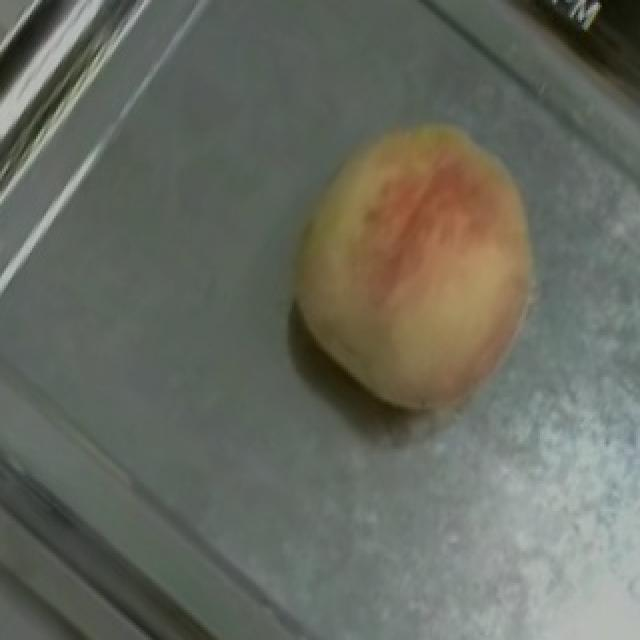Fruit: (242, 74, 588, 452)
